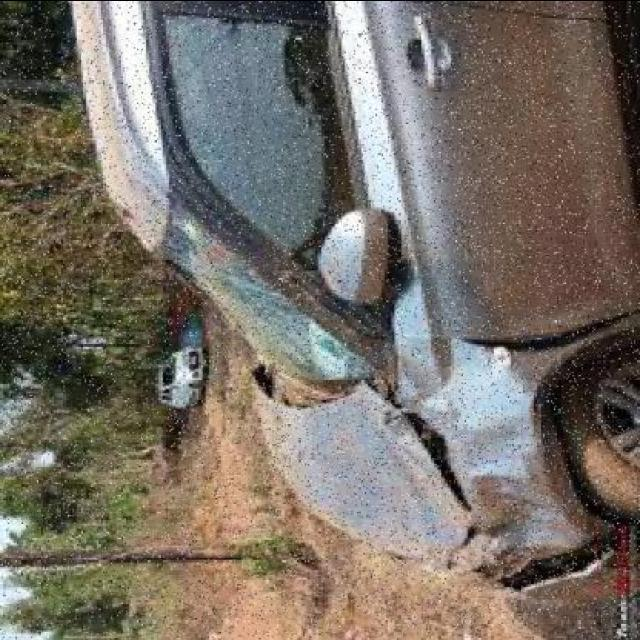Front-Windscreen-Damage: (140, 184, 343, 380)
bonnet-dent: (242, 379, 471, 556)
fender-dent: (442, 334, 575, 528)
front-bumper-dent: (451, 522, 637, 628)
